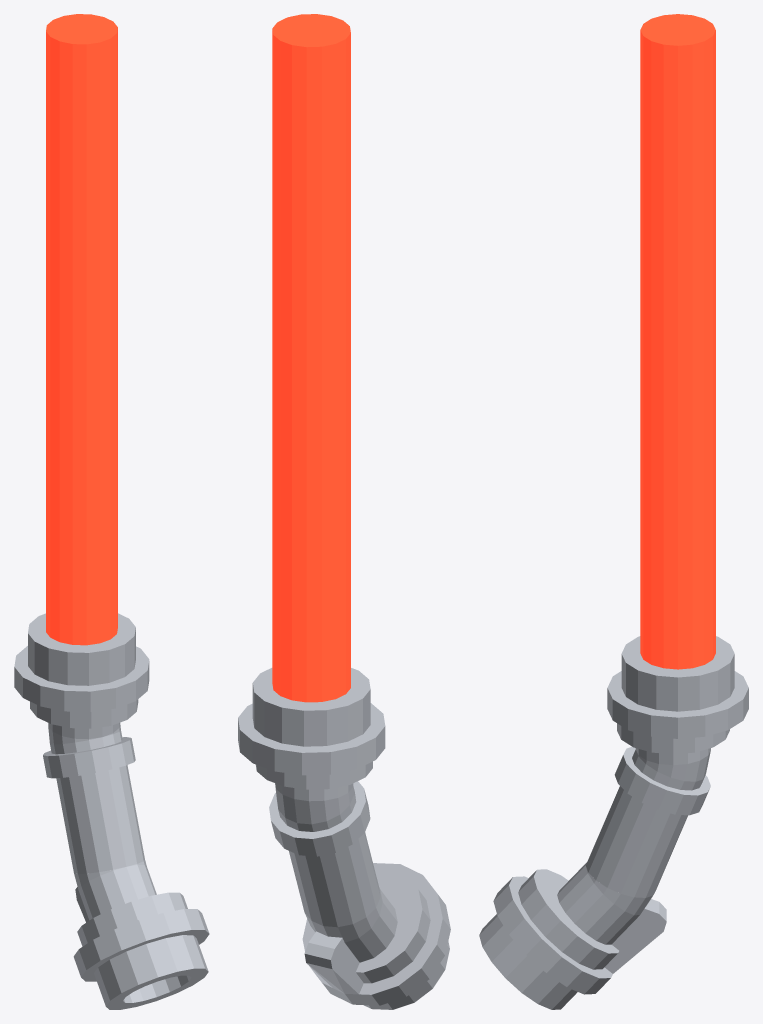
Rendered from dooku-lightsaber.glb.
3 views of the same model, side by side, from view 1: azimuth 30°, elevation 25°; view 2: azimuth 150°, elevation 25°; view 3: azimuth 270°, elevation 25° (orthographic). The views are drawn at different scales.
Visible parts, largest first — view 1: Dooku minifigure lightsaber; view 2: Dooku minifigure lightsaber; view 3: Dooku minifigure lightsaber.
Boxes of the visible parts, x1=… form: Dooku minifigure lightsaber: x1=14, y1=14, x2=209, y2=1009; Dooku minifigure lightsaber: x1=238, y1=14, x2=450, y2=1009; Dooku minifigure lightsaber: x1=479, y1=14, x2=748, y2=1009.
Bounding box in the file's own units: 0.15 × 1.14 × 0.2861.
